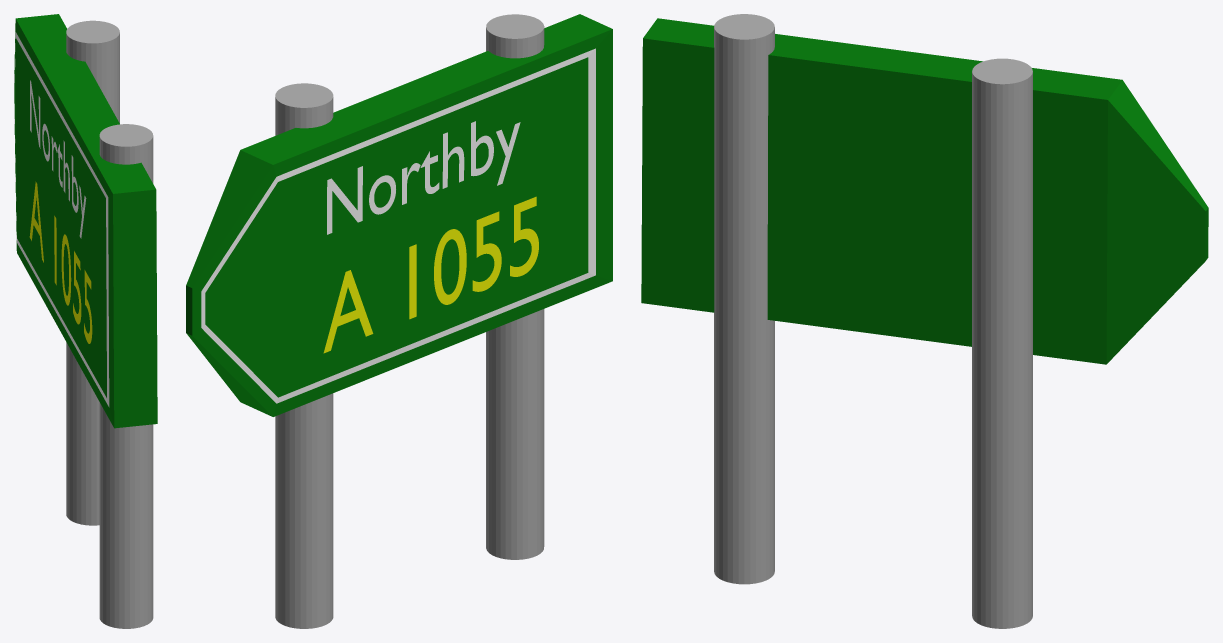
The model's file is ChevronLeftNorthbyRoundabout.fbx.
3 renders of one model, left to right at view 1: azimuth 30°, elevation 25°; view 2: azimuth 150°, elevation 25°; view 3: azimuth 270°, elevation 25°, orthographic. The views are drawn at different scales.
Visible parts, largest first — view 1: Cube.030, Cylinder.002, Cylinder.001, Text.008, Text.007; view 2: Cube.030, Cylinder.002, Cylinder.001, Text.008, Text.007; view 3: Cube.030, Cylinder.001, Cylinder.002.
Part boxes in pixels (left/top/right/bottom): Cube.030: left=14, top=14, right=157, bottom=428; Cylinder.002: left=99, top=124, right=153, bottom=628; Cylinder.001: left=66, top=20, right=119, bottom=525; Text.008: left=29, top=181, right=92, bottom=343; Text.007: left=30, top=80, right=86, bottom=238; Cube.030: left=186, top=14, right=612, bottom=416; Cylinder.002: left=486, top=14, right=544, bottom=559; Cylinder.001: left=275, top=83, right=333, bottom=628; Text.008: left=323, top=196, right=538, bottom=353; Text.007: left=327, top=121, right=520, bottom=234; Cube.030: left=641, top=18, right=1208, bottom=364; Cylinder.001: left=972, top=58, right=1032, bottom=628; Cylinder.002: left=714, top=14, right=774, bottom=584.
Bounding box in the file's own units: 127 × 374 × 353.
